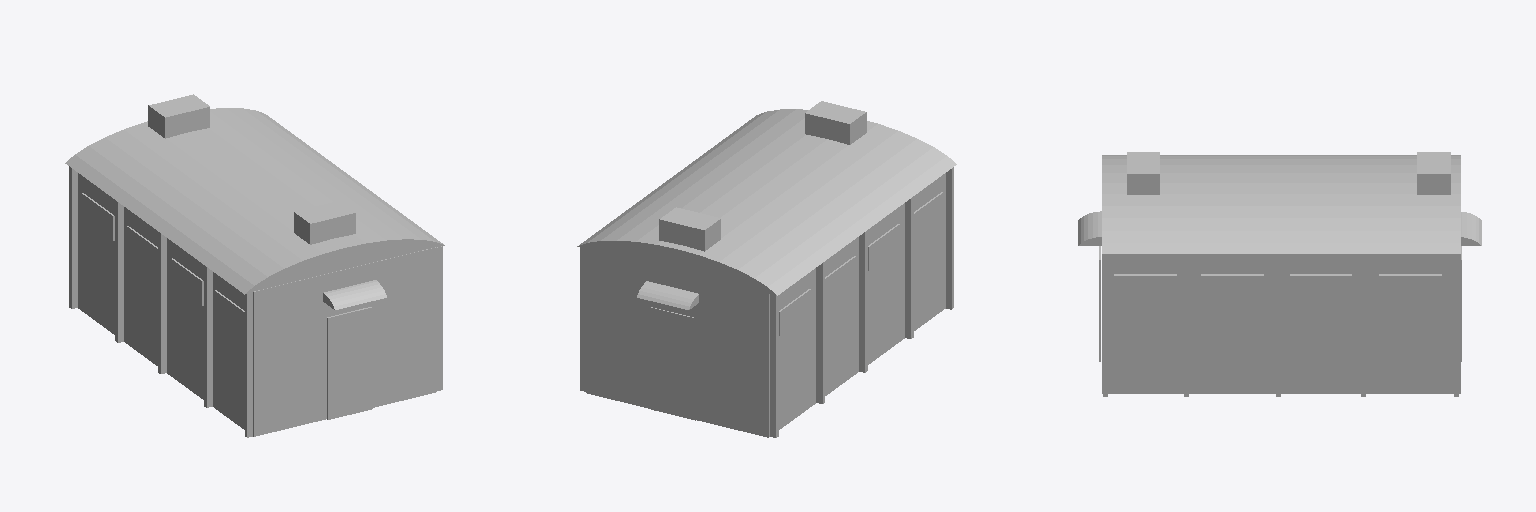
Rendered from giladupdate 1.obj.
3 views of the same model, side by side, from view 1: azimuth 30°, elevation 25°; view 2: azimuth 150°, elevation 25°; view 3: azimuth 270°, elevation 25° (orthographic).
Parts seen in each view (by area): view 1: Cube_Cube, Cylinder.001_Cylinder.001, Cube.002_Cube.002, Cube.001_Cube.001, Cube.004_Cube.008, Cube.006_Cube.014, Cylinder.002_Cylinder.002; view 2: Cube_Cube, Cylinder.001_Cylinder.001, Cube.002_Cube.002, Cube.001_Cube.001, Cube.004_Cube.008, Cube.006_Cube.014, Cylinder.002_Cylinder.002; view 3: Cube_Cube, Cylinder.001_Cylinder.001, Cube.006_Cube.014, Cube.002_Cube.002, Cube.004_Cube.008, Cylinder.002_Cylinder.002.
Boxes of the visible parts, x1=… form: Cube_Cube: x1=78, y1=173, x2=435, y2=436; Cylinder.001_Cylinder.001: x1=65, y1=108, x2=444, y2=294; Cube.002_Cube.002: x1=69, y1=166, x2=442, y2=437; Cube.001_Cube.001: x1=327, y1=307, x2=372, y2=419; Cube.004_Cube.008: x1=148, y1=94, x2=355, y2=244; Cube.006_Cube.014: x1=82, y1=193, x2=244, y2=336; Cylinder.002_Cylinder.002: x1=323, y1=280, x2=386, y2=309; Cube_Cube: x1=586, y1=173, x2=945, y2=437; Cylinder.001_Cylinder.001: x1=577, y1=109, x2=956, y2=295; Cube.002_Cube.002: x1=580, y1=167, x2=953, y2=437; Cube.001_Cube.001: x1=651, y1=307, x2=695, y2=420; Cube.004_Cube.008: x1=659, y1=101, x2=866, y2=251; Cube.006_Cube.014: x1=779, y1=192, x2=943, y2=335; Cylinder.002_Cylinder.002: x1=637, y1=281, x2=698, y2=309; Cube_Cube: x1=1102, y1=254, x2=1460, y2=393; Cylinder.001_Cylinder.001: x1=1102, y1=155, x2=1460, y2=253; Cube.006_Cube.014: x1=1114, y1=274, x2=1441, y2=299; Cube.002_Cube.002: x1=1103, y1=254, x2=1458, y2=396; Cube.004_Cube.008: x1=1127, y1=152, x2=1450, y2=194; Cylinder.002_Cylinder.002: x1=1078, y1=211, x2=1481, y2=245.
Size of the model in its own units: 2.75 by 2.44 by 4.78.